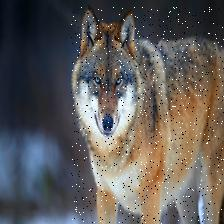WOLF: (71, 7, 224, 224)
